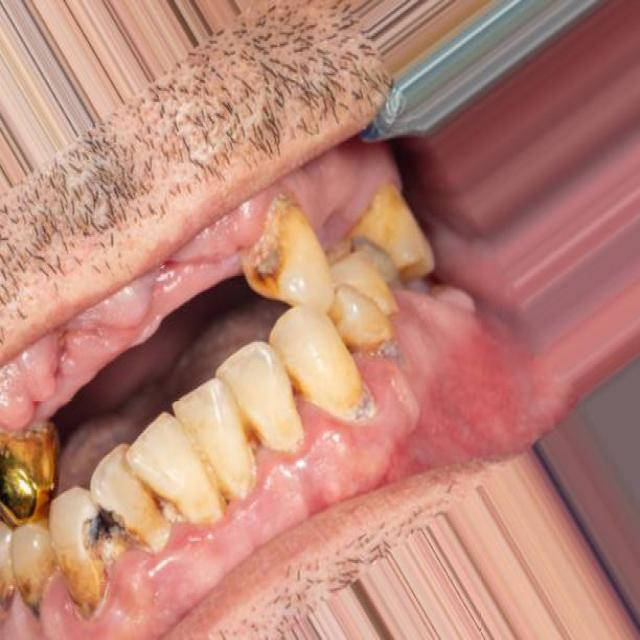caries: (74, 497, 130, 578), (244, 243, 291, 299)
